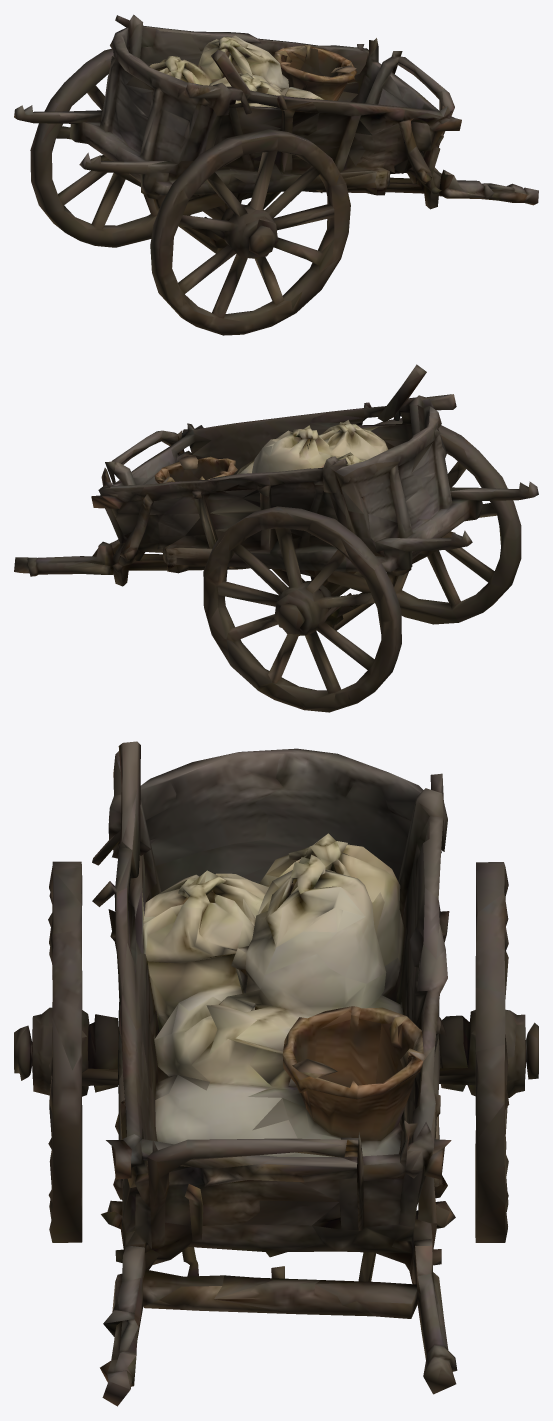
Rendered from broken-baggage-cart.glb.
The picture shows the model from 3 angles, top to bottom: view 1: azimuth 30°, elevation 25°; view 2: azimuth 150°, elevation 25°; view 3: azimuth 270°, elevation 25°; orthographic projection. The views are drawn at different scales.
Parts seen in each view (by area): view 1: tripo_node_86849821-1c27-4322-bded-c760efb15de4; view 2: tripo_node_86849821-1c27-4322-bded-c760efb15de4; view 3: tripo_node_86849821-1c27-4322-bded-c760efb15de4.
Part boxes in pixels (x1,y1,x2,y2): tripo_node_86849821-1c27-4322-bded-c760efb15de4: (14, 14, 538, 335); tripo_node_86849821-1c27-4322-bded-c760efb15de4: (14, 364, 538, 712); tripo_node_86849821-1c27-4322-bded-c760efb15de4: (14, 741, 538, 1406).
Size of the model in its own units: 2.94 by 1.7 by 1.71.
Materials: 1 (1 with a texture image).
